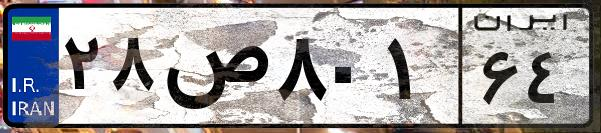0: (330, 28, 385, 110)
1: (385, 28, 445, 110)
2: (57, 26, 110, 100)
4: (525, 38, 570, 115)
6: (475, 38, 525, 113)
8: (270, 28, 330, 110), (110, 28, 158, 98)
ص: (158, 20, 270, 120)
